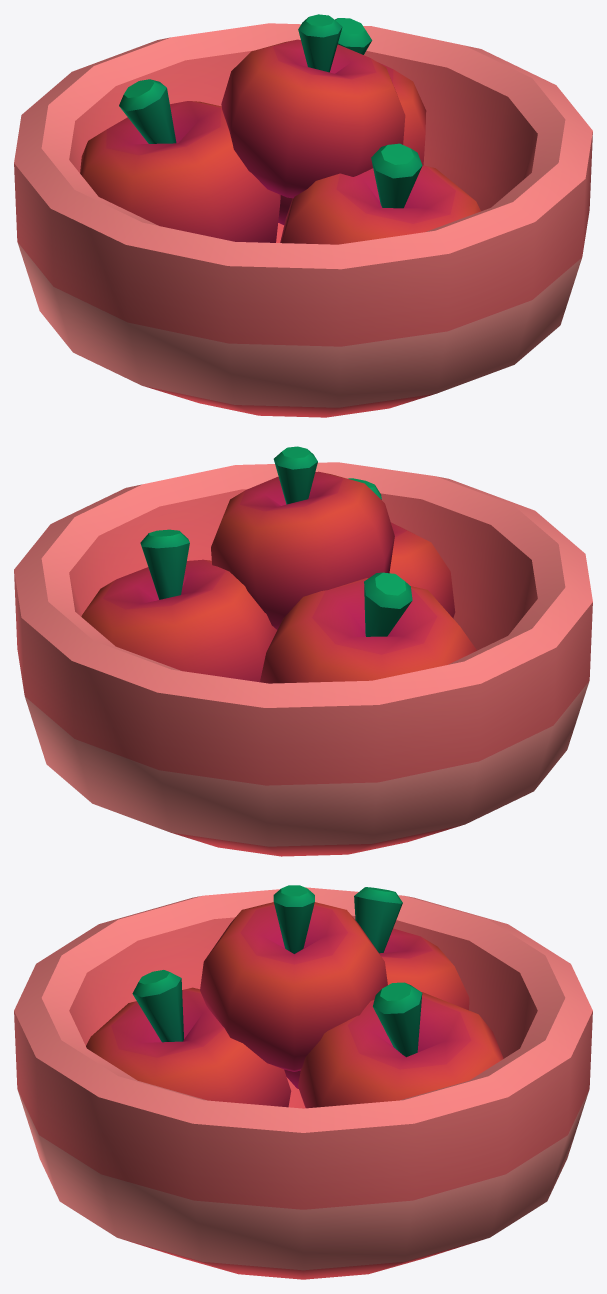
The model's file is icecream_bowl_cherries.obj.
The picture shows the model from 3 angles, top to bottom: view 1: azimuth 30°, elevation 25°; view 2: azimuth 150°, elevation 25°; view 3: azimuth 270°, elevation 25°; orthographic projection.
Parts seen in each view (by area): view 1: icecream_bowl_cherries_Sphere.123; view 2: icecream_bowl_cherries_Sphere.123; view 3: icecream_bowl_cherries_Sphere.123.
Boxes of the visible parts, x1,y1,x2,y2 form: icecream_bowl_cherries_Sphere.123: [14, 14, 592, 417]; icecream_bowl_cherries_Sphere.123: [14, 446, 592, 856]; icecream_bowl_cherries_Sphere.123: [14, 885, 592, 1279].
Size of the model in its own units: 0.75 by 0.4618 by 0.75.
1 material, 1 textured.
